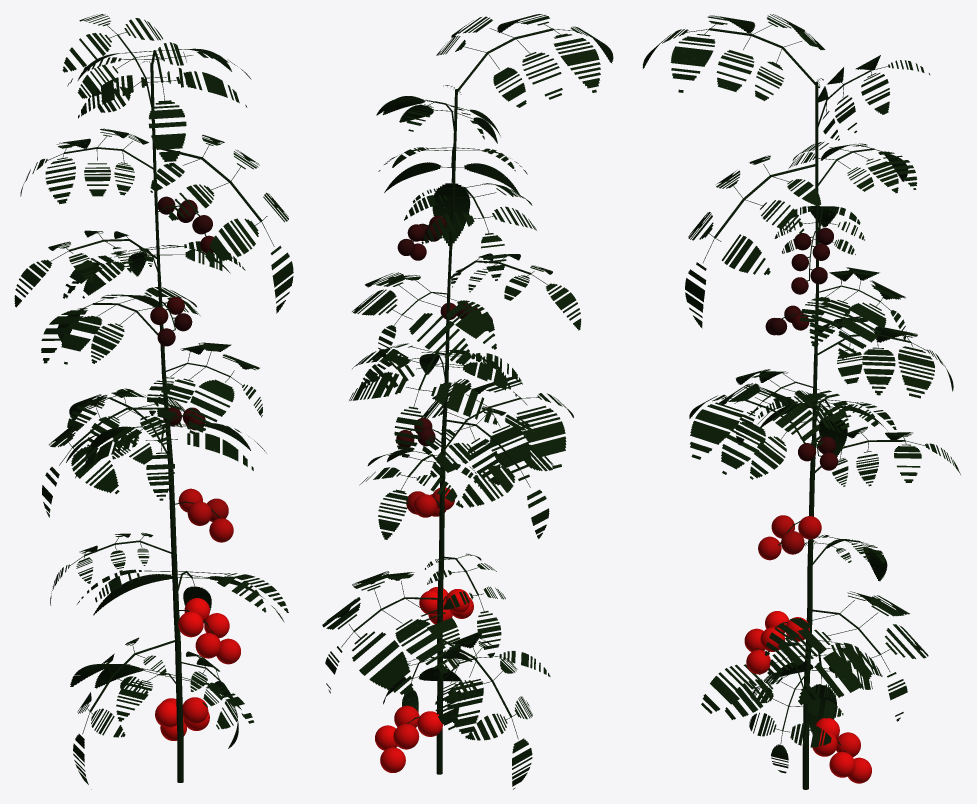
Rendered from FSPM_1.fbx.
3 views of the same model, side by side, from view 1: azimuth 30°, elevation 25°; view 2: azimuth 150°, elevation 25°; view 3: azimuth 270°, elevation 25° (orthographic). The views are drawn at different scales.
Visible parts, largest first — view 1: plant0_hd; view 2: plant0_hd; view 3: plant0_hd.
Boxes of the visible parts, x1=… form: plant0_hd: x1=14, y1=14, x2=293, y2=789; plant0_hd: x1=322, y1=14, x2=613, y2=789; plant0_hd: x1=642, y1=14, x2=960, y2=789.
Size of the model in its own units: 58.92 by 164 by 65.12.
